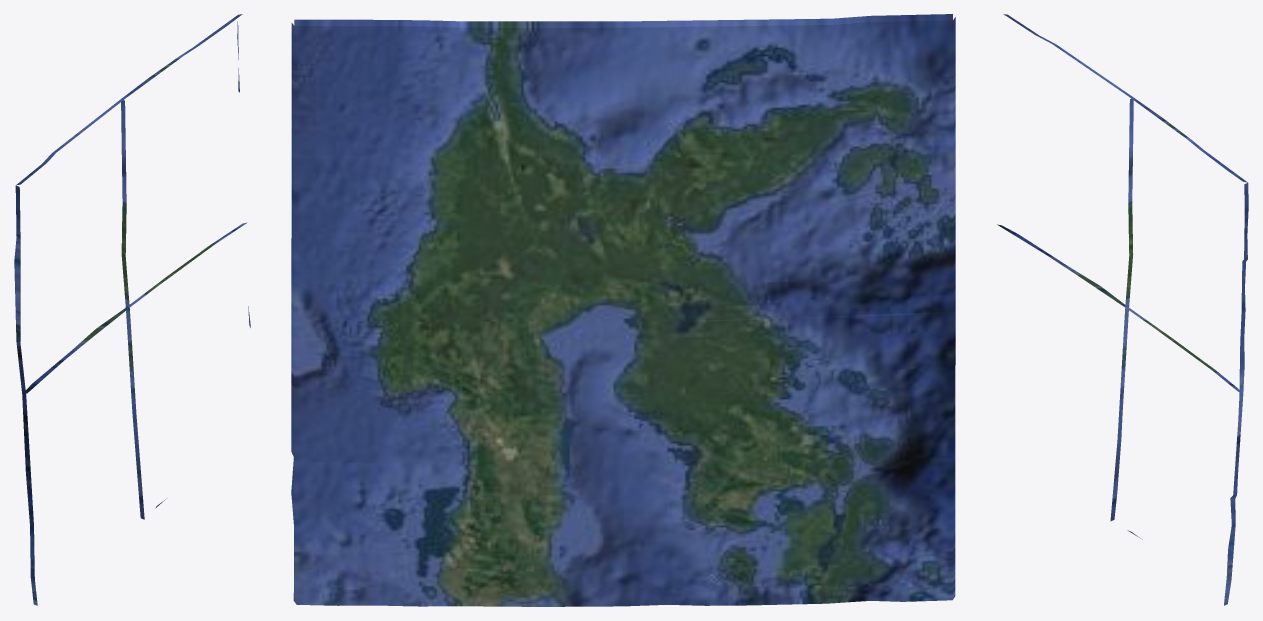
3 views of the same model, side by side, from view 1: azimuth 30°, elevation 25°; view 2: azimuth 150°, elevation 25°; view 3: azimuth 270°, elevation 25° (orthographic). The views are drawn at different scales.
Size of the model in its own units: 557822 by 628321 by 357736.
Materials: 1 (1 with a texture image).
